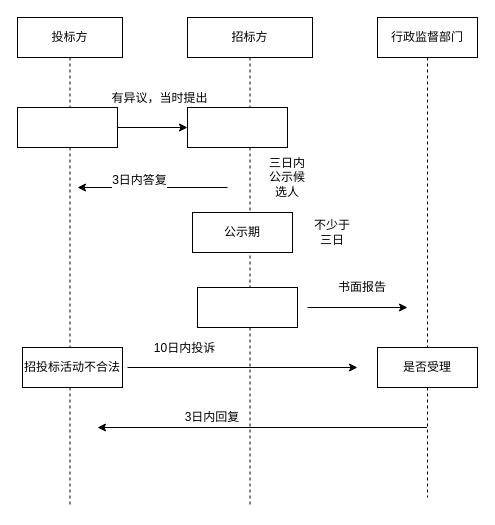
The diagram is 495 pixels wide and 525 high, and some of its shapes have lost their labels. Each missing label, with the centre of its shape:
招标人或其他利害关系人: pixel 67 127
收到评标报告: pixel 237 127
确定中标人15日内: pixel 247 307
